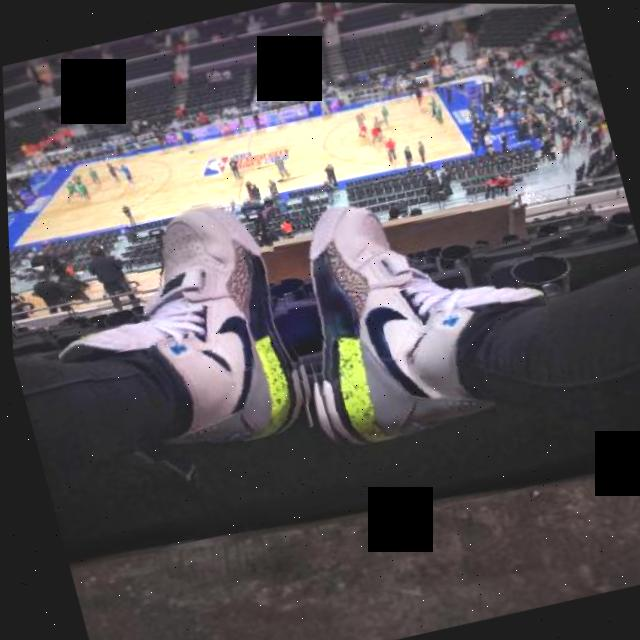shoe: (260, 160, 571, 456), (24, 187, 321, 477)
